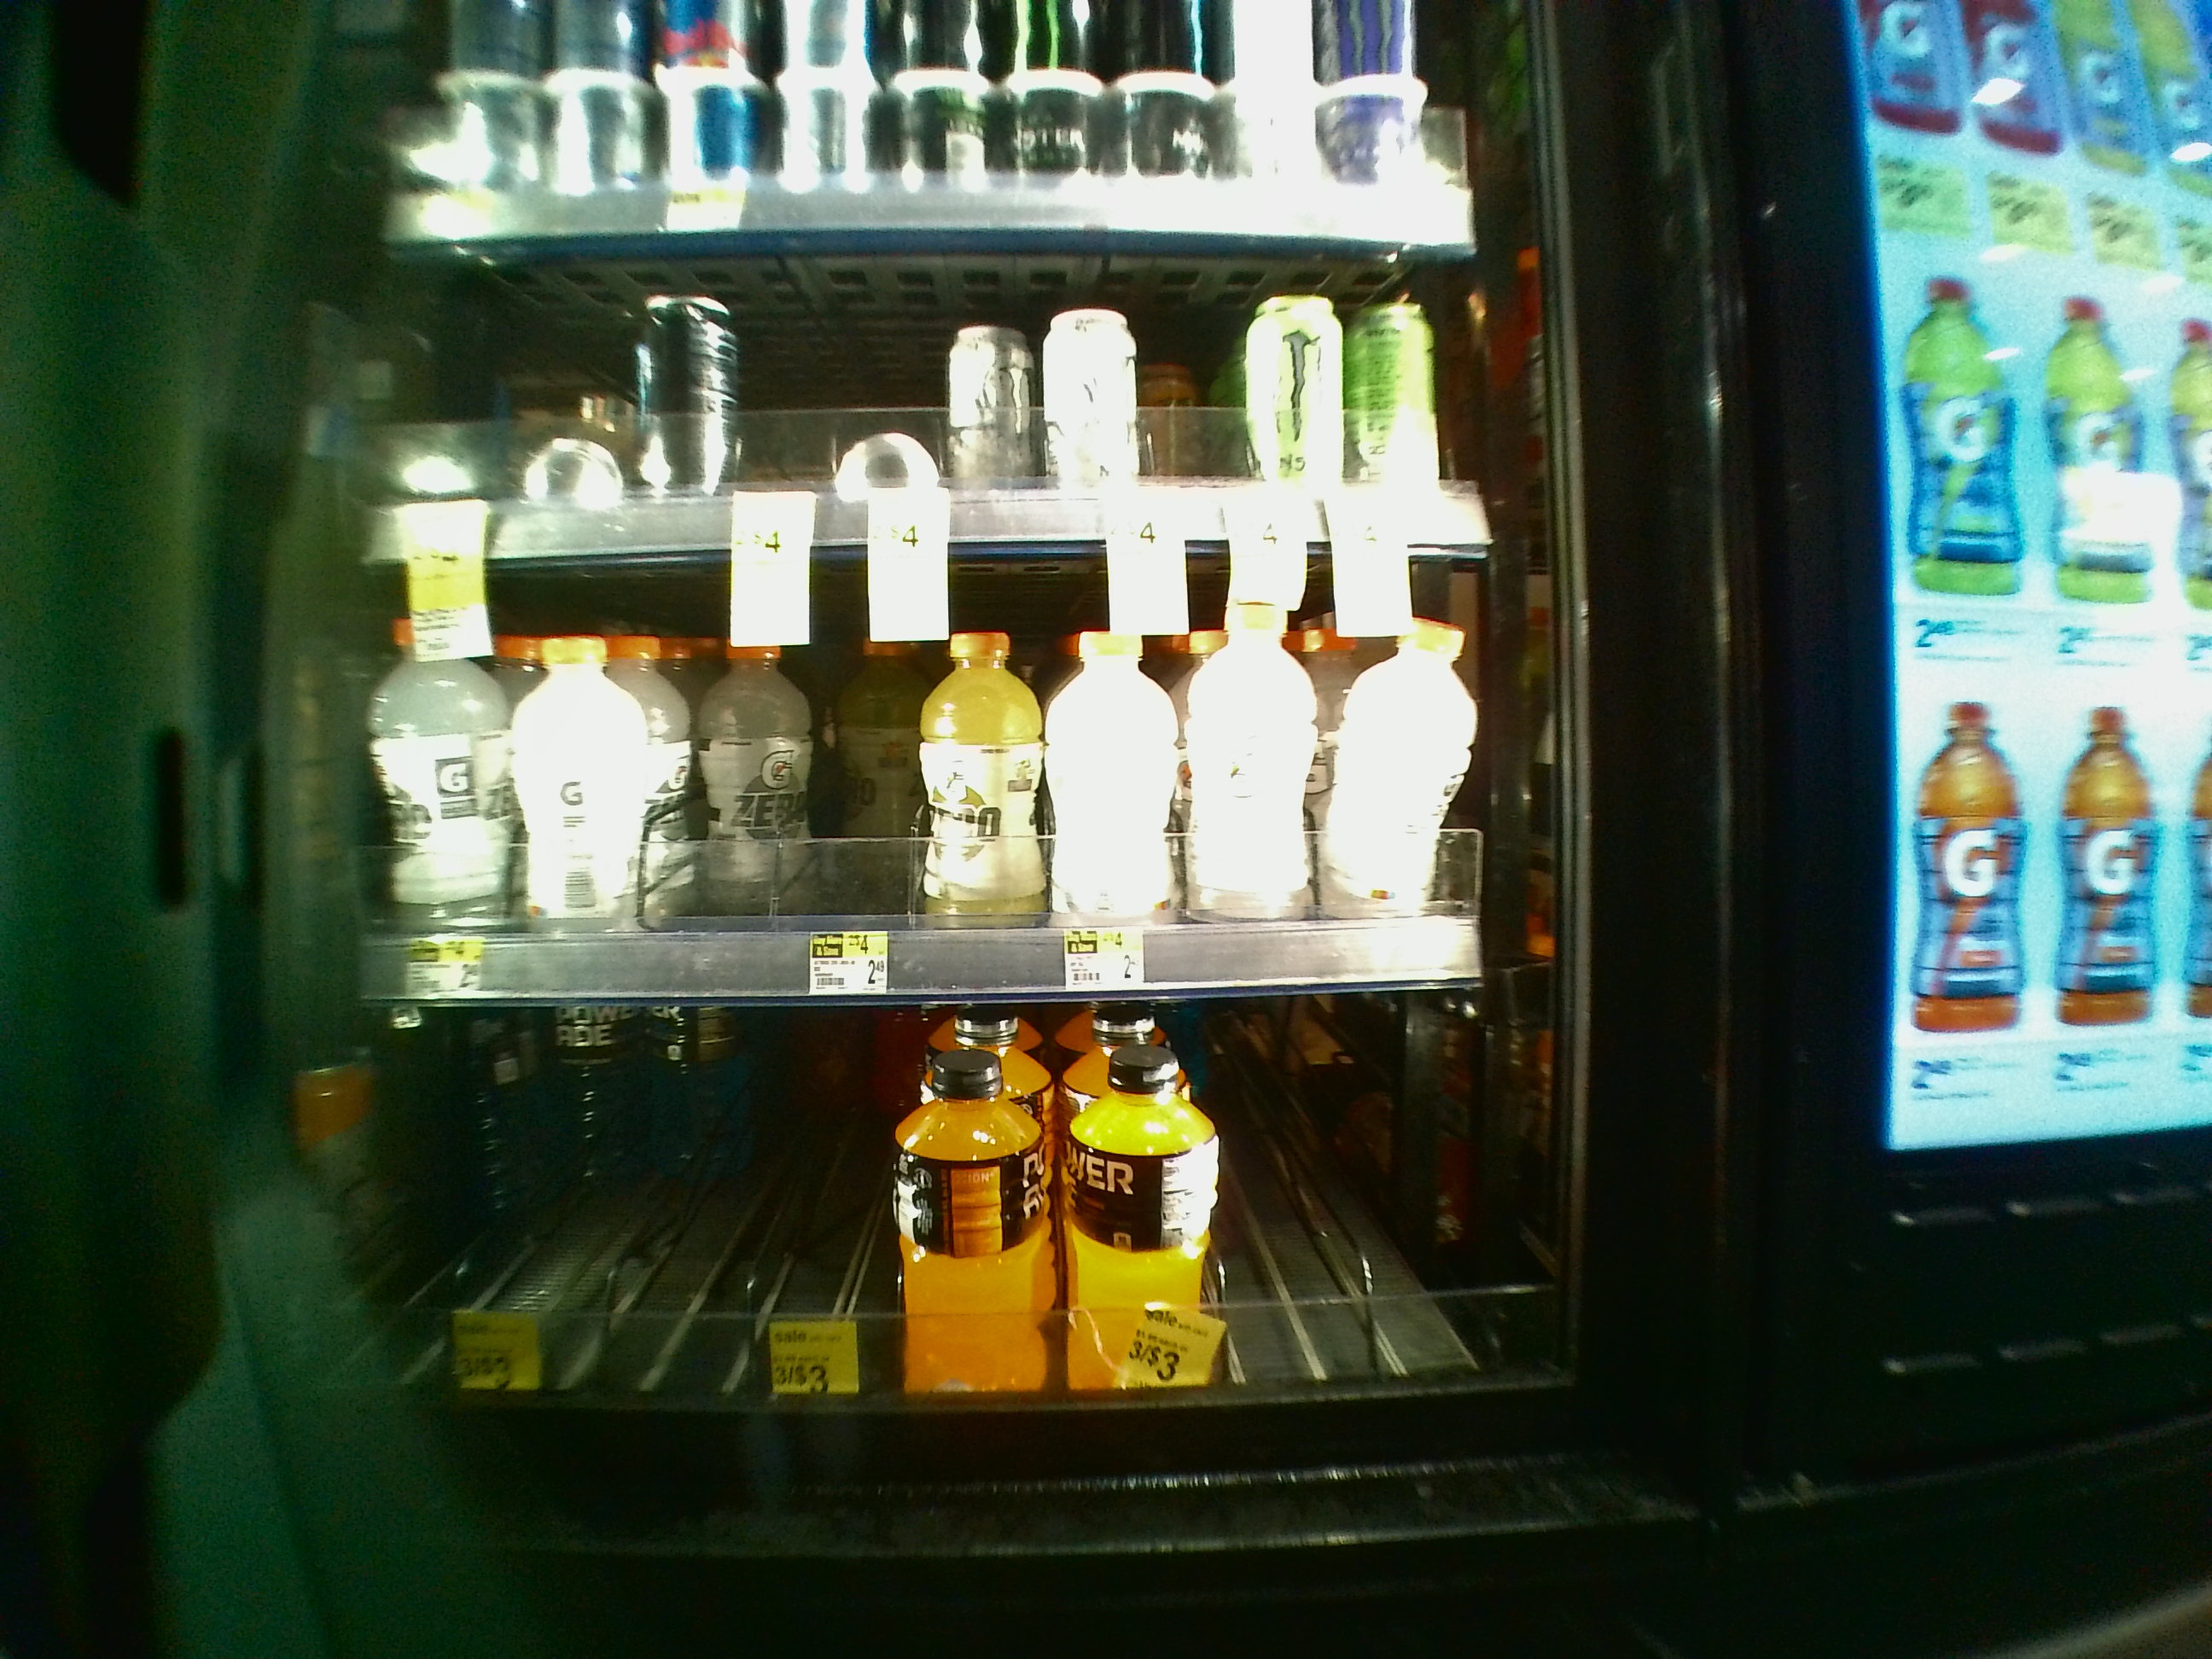shelf: (334, 547, 1573, 988), (312, 992, 1592, 1401), (312, 204, 1581, 538)
